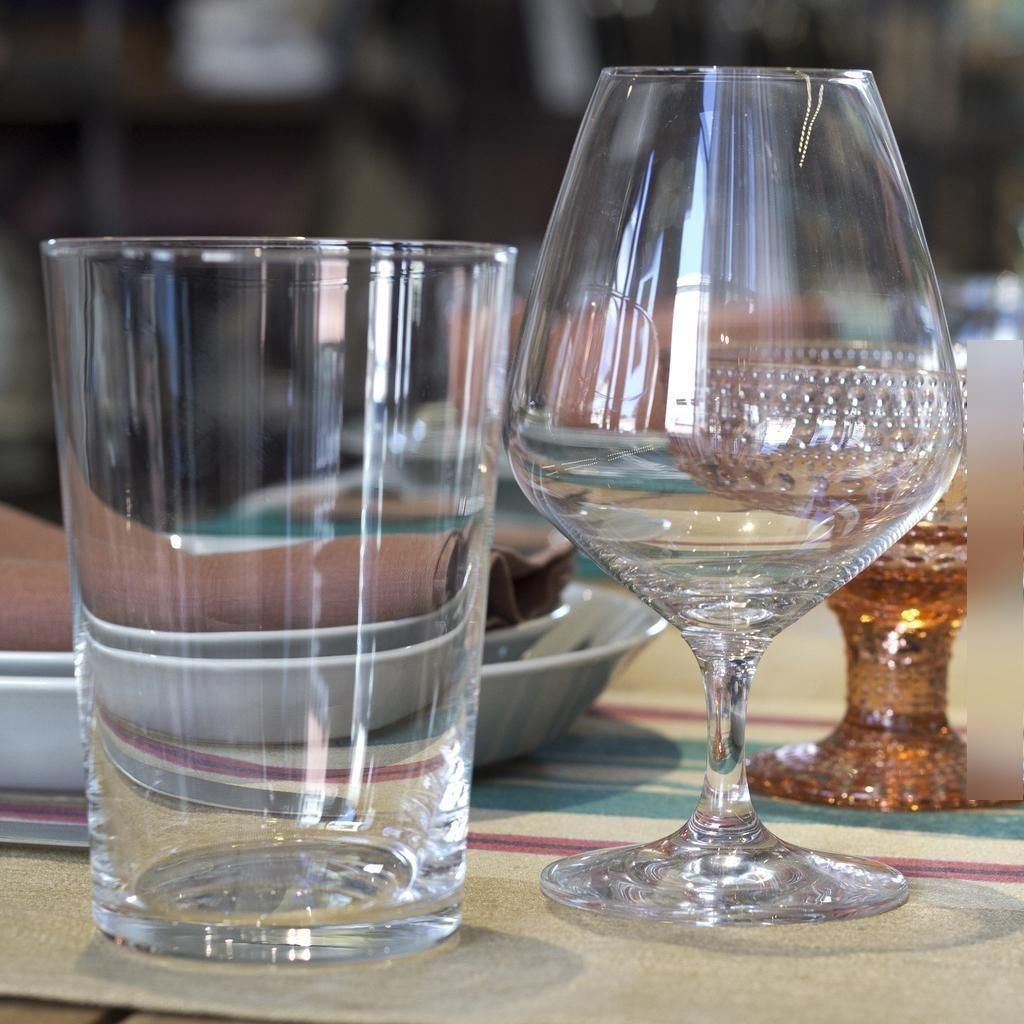glass-normal: (31, 234, 511, 960)
glass-wine: (501, 64, 968, 929)
